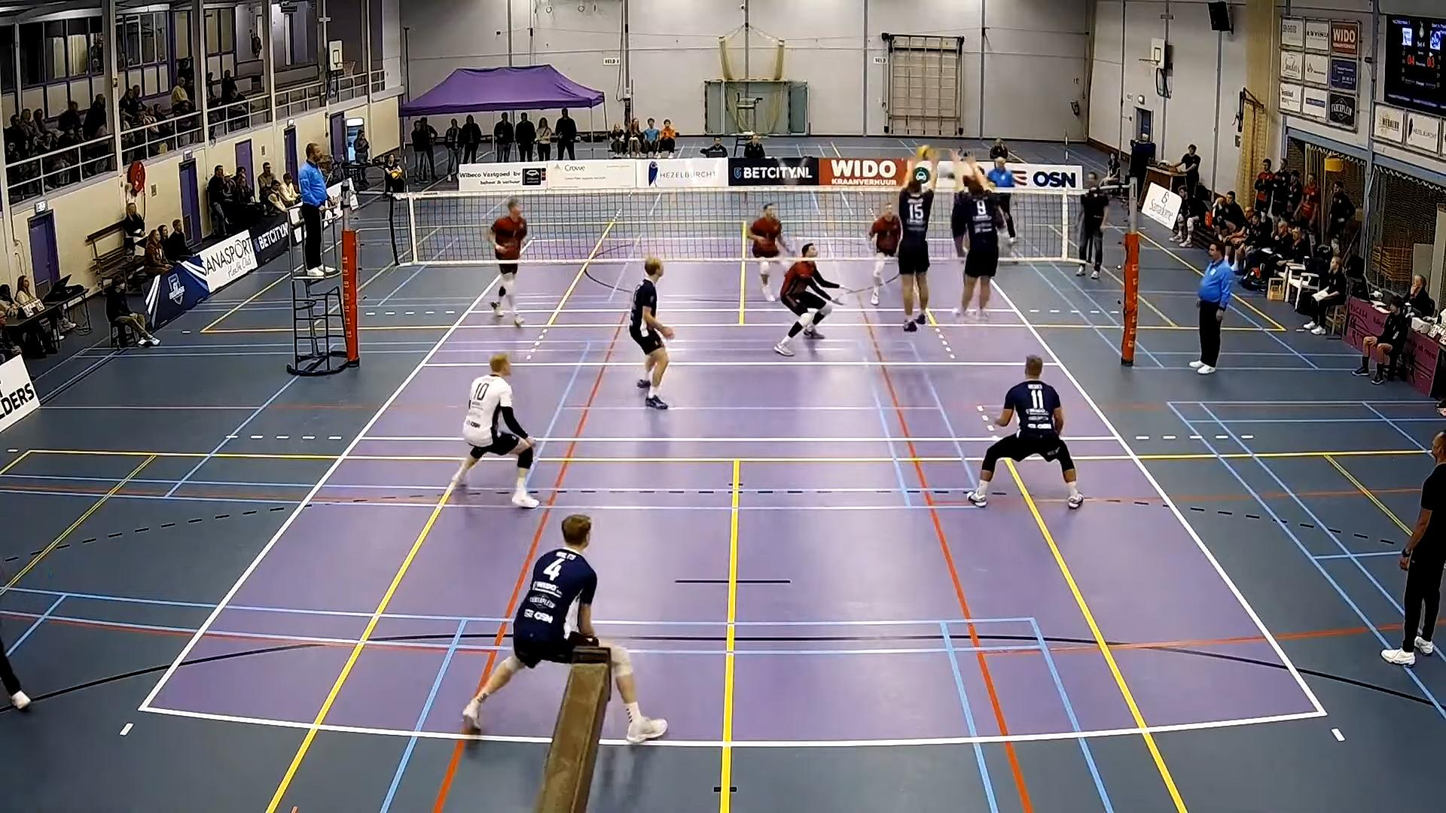attacco: (936, 152, 985, 267)
muro: (945, 142, 1000, 329), (896, 149, 945, 335)
